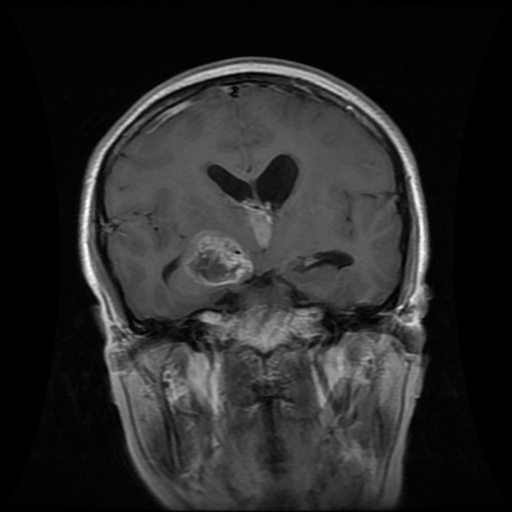glioma: (181, 200, 274, 285)
